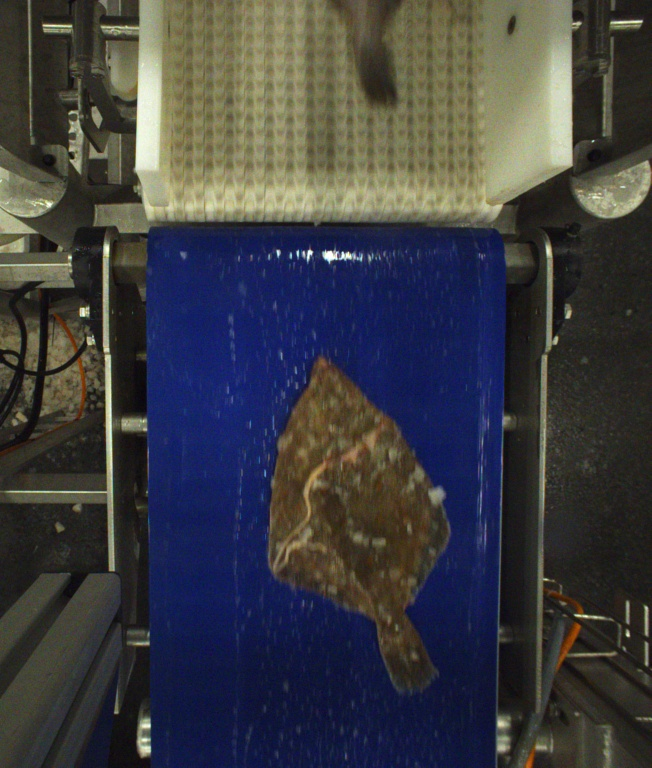PLE: (269, 357, 452, 694)
